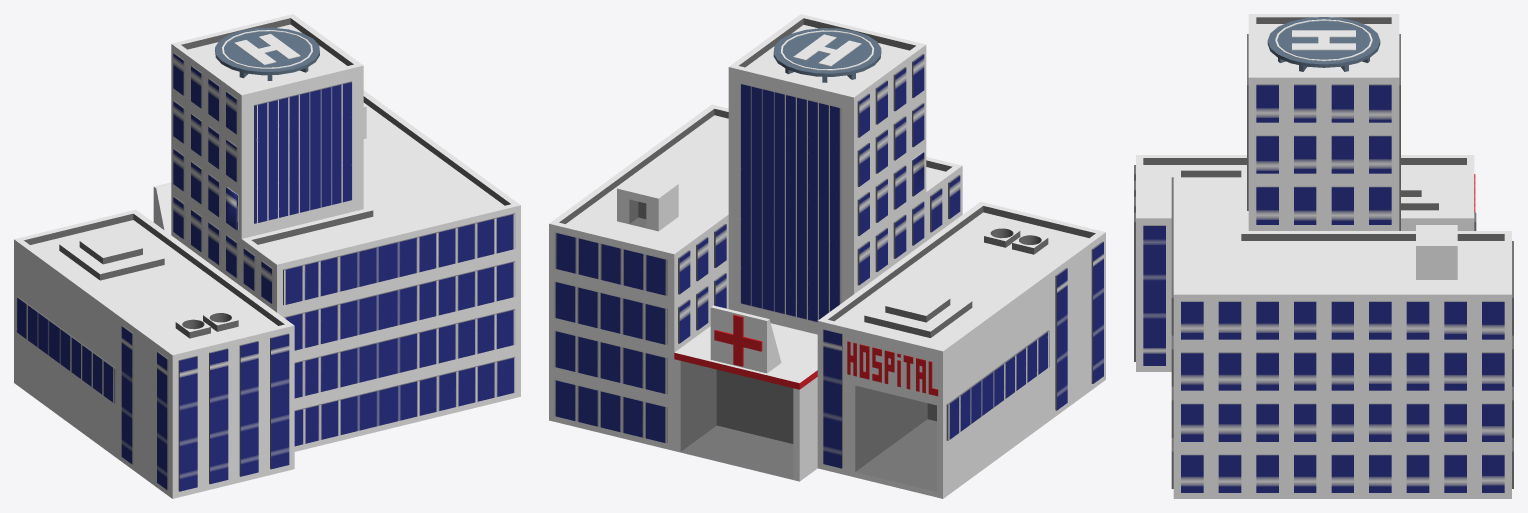
File: Hospita.fbx
3 renders of one model, left to right at view 1: azimuth 30°, elevation 25°; view 2: azimuth 150°, elevation 25°; view 3: azimuth 270°, elevation 25°, orthographic. The views are drawn at different scales.
Visible parts, largest first — view 1: Hospital; view 2: Hospital; view 3: Hospital.
Boxes of the visible parts, left/top/right/bottom form: Hospital: left=14, top=14, right=520, bottom=498; Hospital: left=549, top=14, right=1105, bottom=498; Hospital: left=1134, top=14, right=1513, bottom=498.
Bounding box in the file's own units: 6050 × 5335 × 5050.
Materials: 1 (1 with a texture image).
